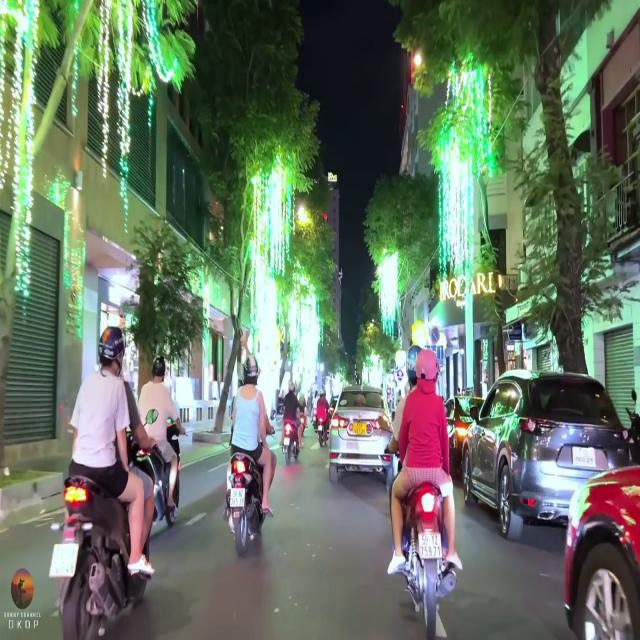bien_trang: (420, 531, 442, 559), (231, 486, 245, 508)
